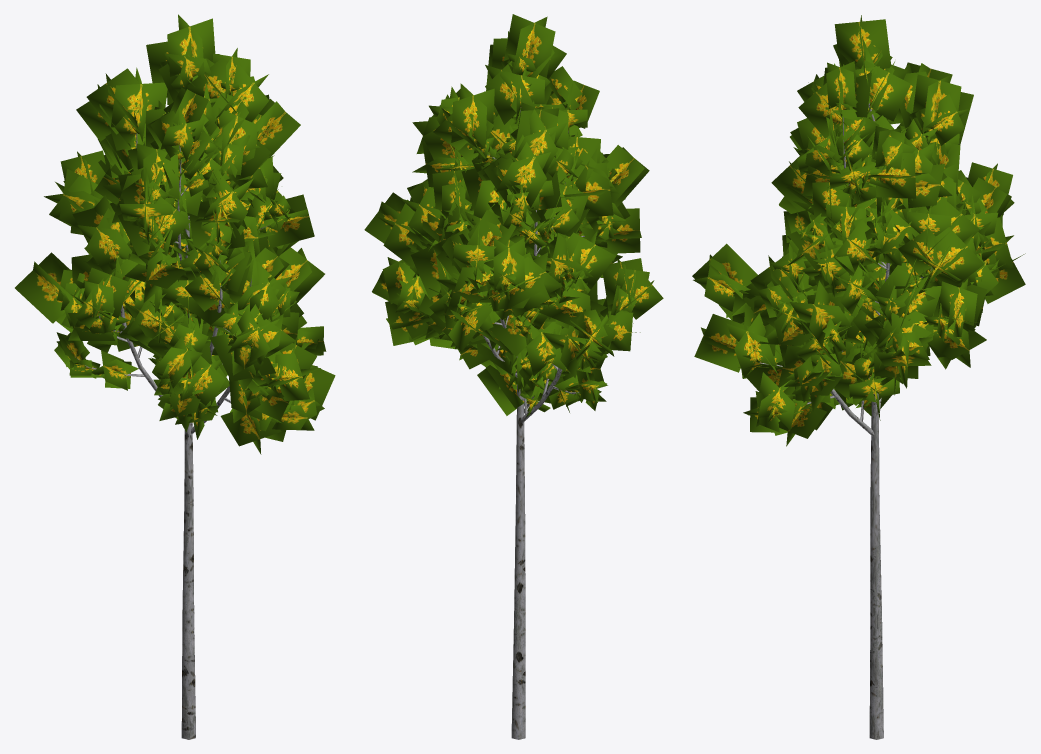
The model's file is birch-lod1.glb.
3 renders of one model, left to right at view 1: azimuth 30°, elevation 25°; view 2: azimuth 150°, elevation 25°; view 3: azimuth 270°, elevation 25°, orthographic.
Visible parts, largest first — view 1: leaves, branches; view 2: leaves, branches; view 3: leaves, branches.
Part boxes in pixels (<box>): leaves: <box>15,14,335,454</box>; branches: <box>75,133,269,739</box>; leaves: <box>364,14,663,416</box>; branches: <box>481,107,584,739</box>; leaves: <box>692,15,1025,446</box>; branches: <box>759,103,932,739</box>.
Size of the model in its own units: 39.33 by 106 by 45.21.
2 materials, 2 textured.
